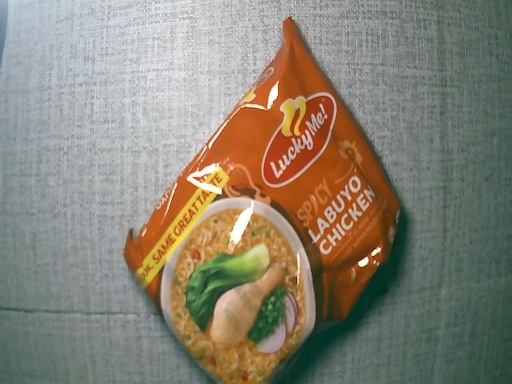plastic: (123, 16, 397, 384)
